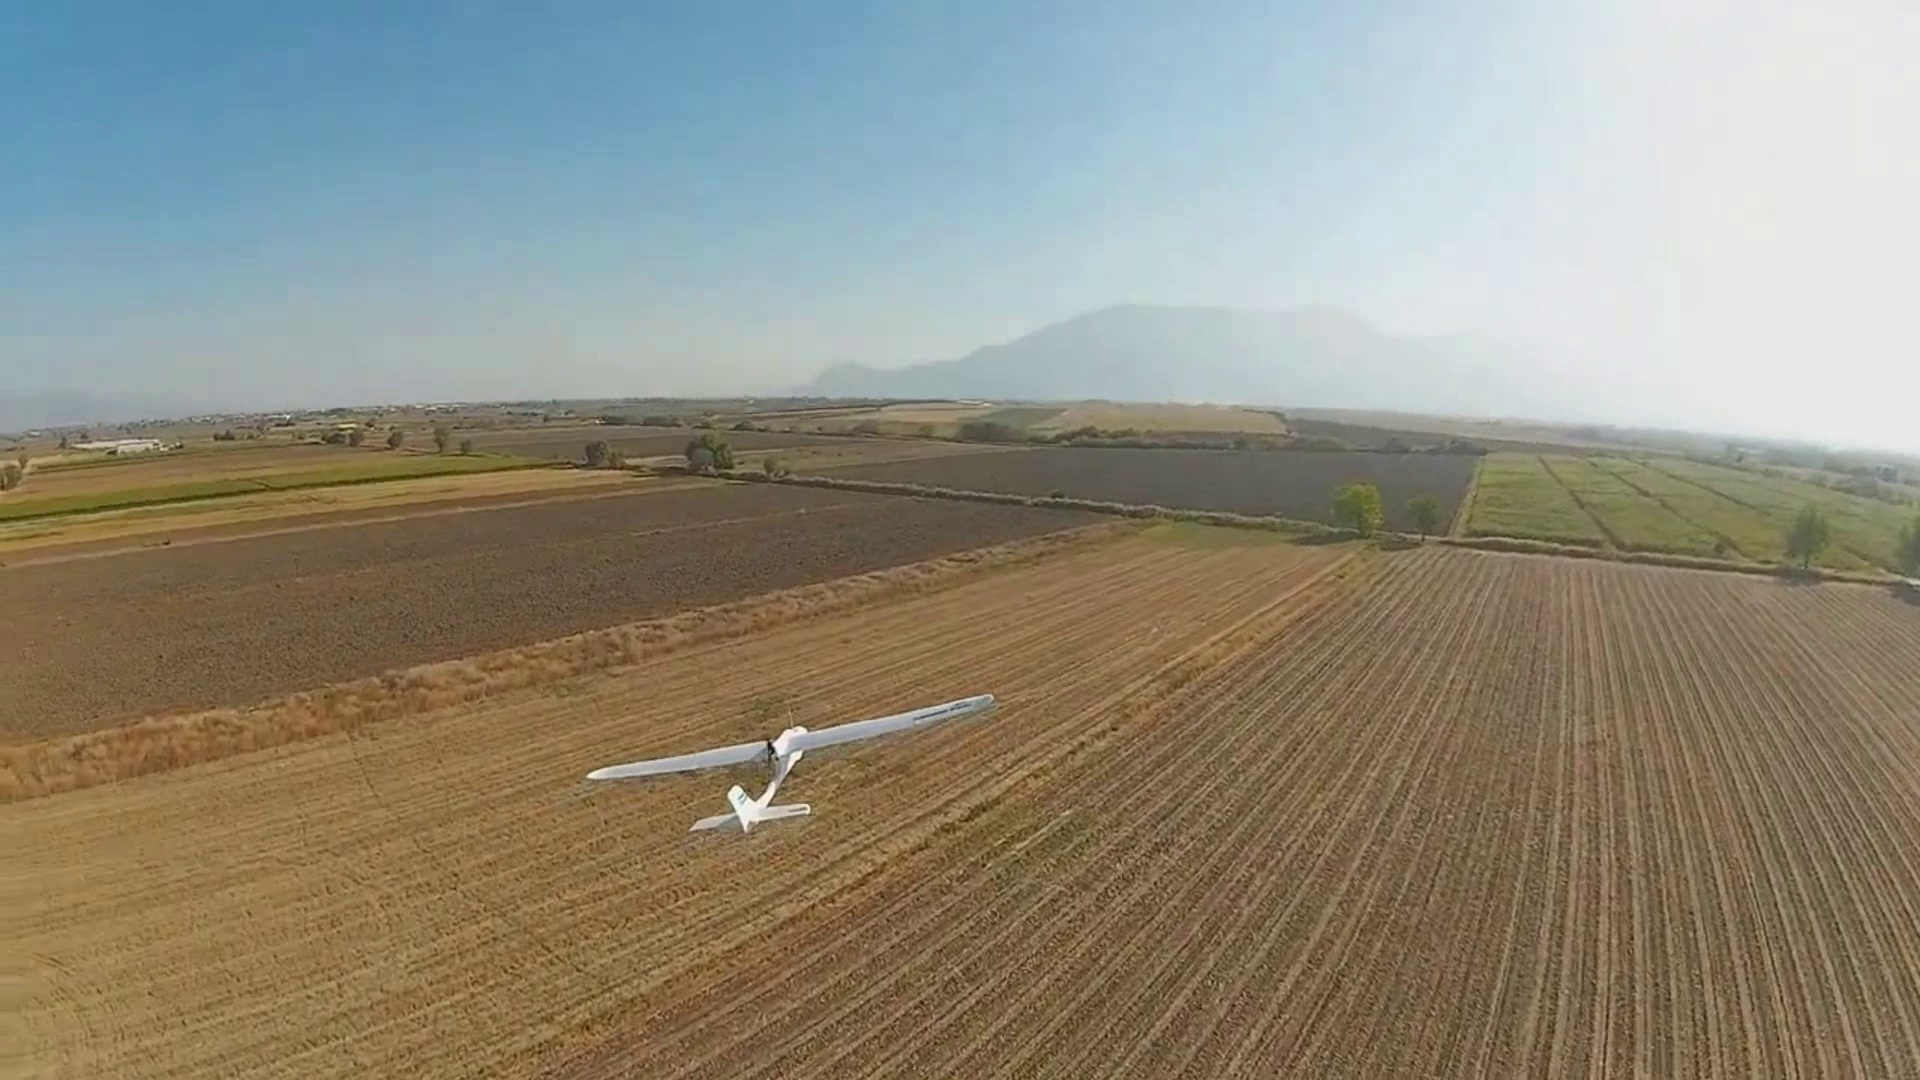airplane: (581, 692, 1002, 836)
